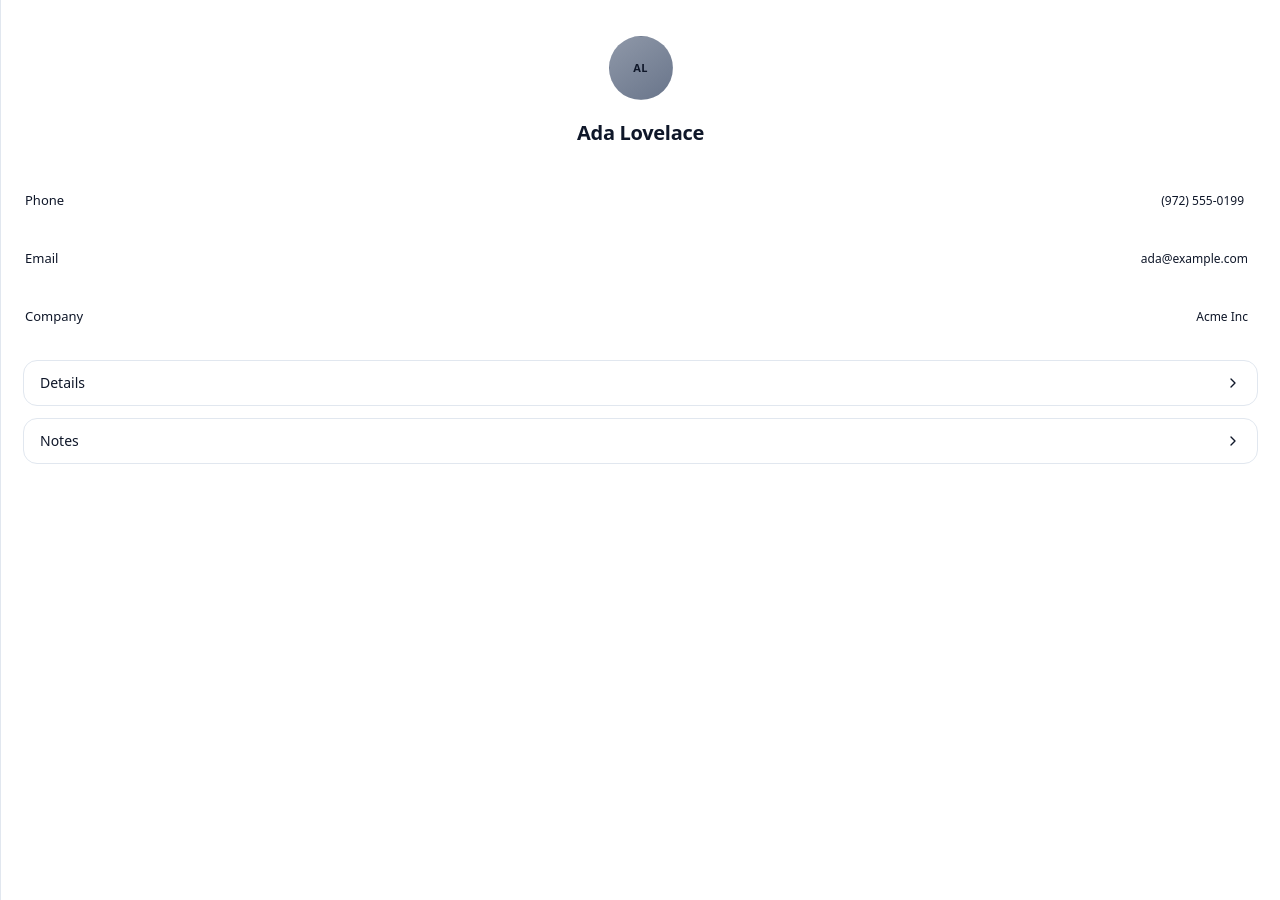
ContactPanel › saves an edit via PATCH with the full merged attributes, and shows a saved state
The image size is (1280, 900).
Click the button "Acme Inc": (1222,317) [1188,301,1256,333]
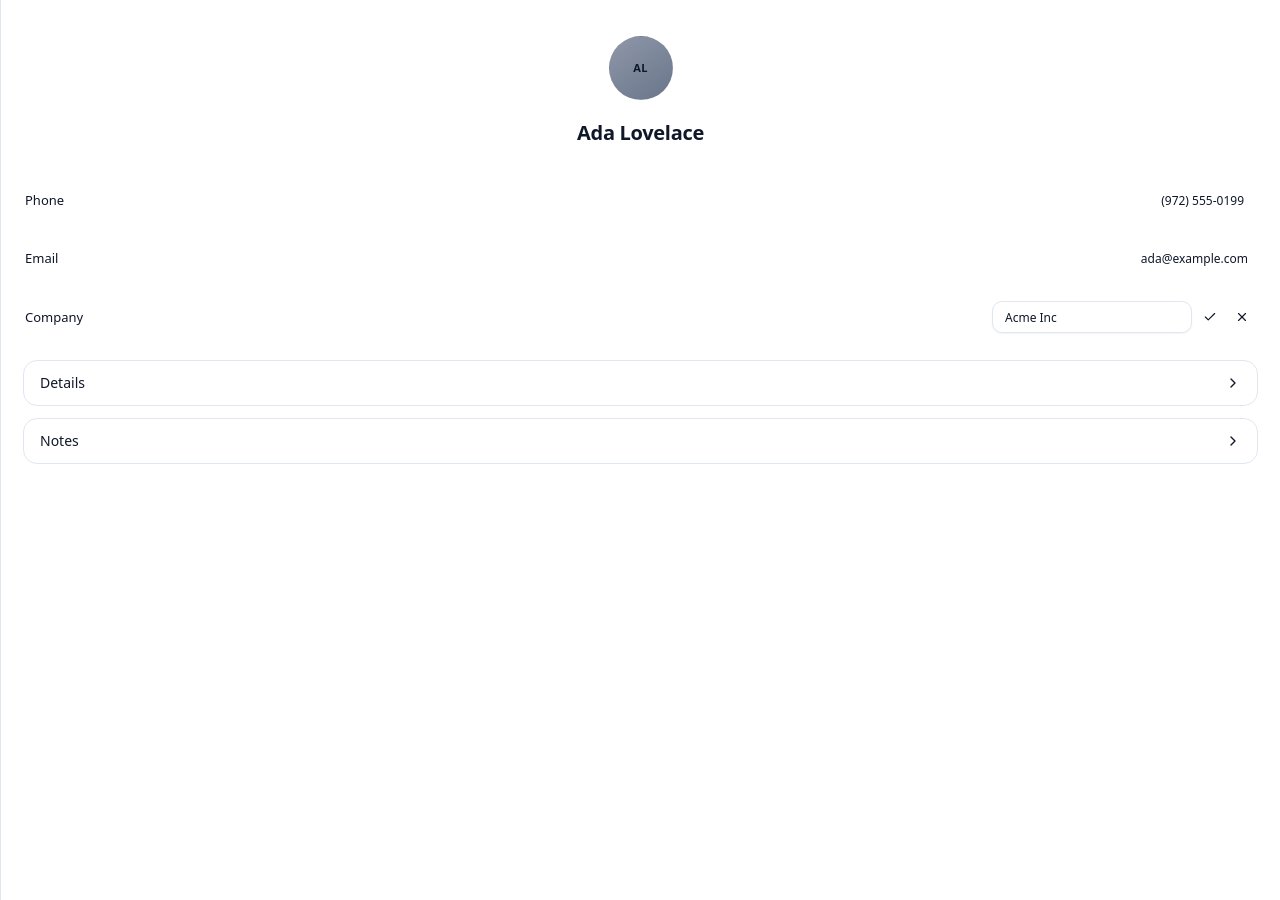
Replace the text in the field named "Company" with "New Co": (1092,317) [992,301,1192,333]
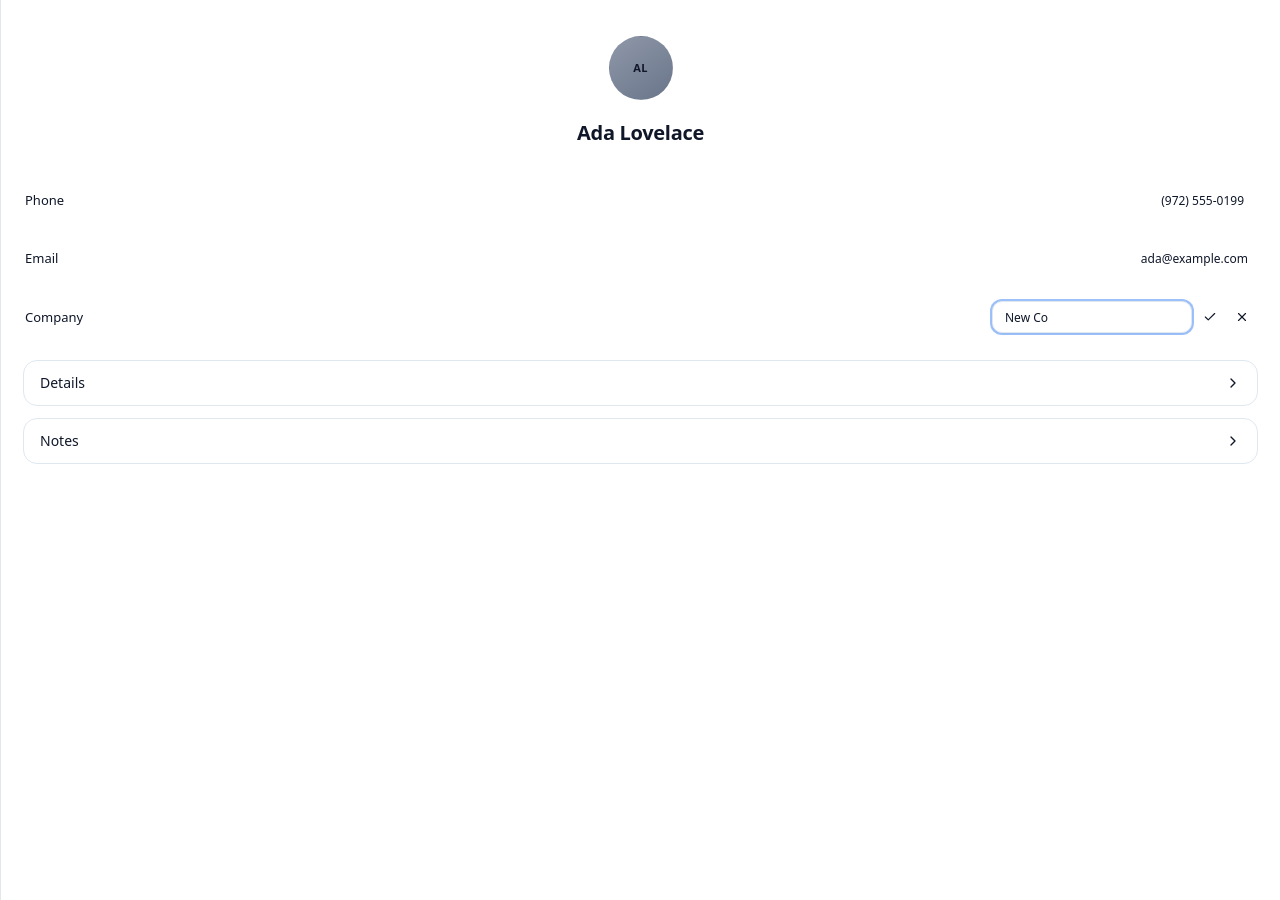
Click the button named "Save Company": (1210,317) [1196,303,1224,331]
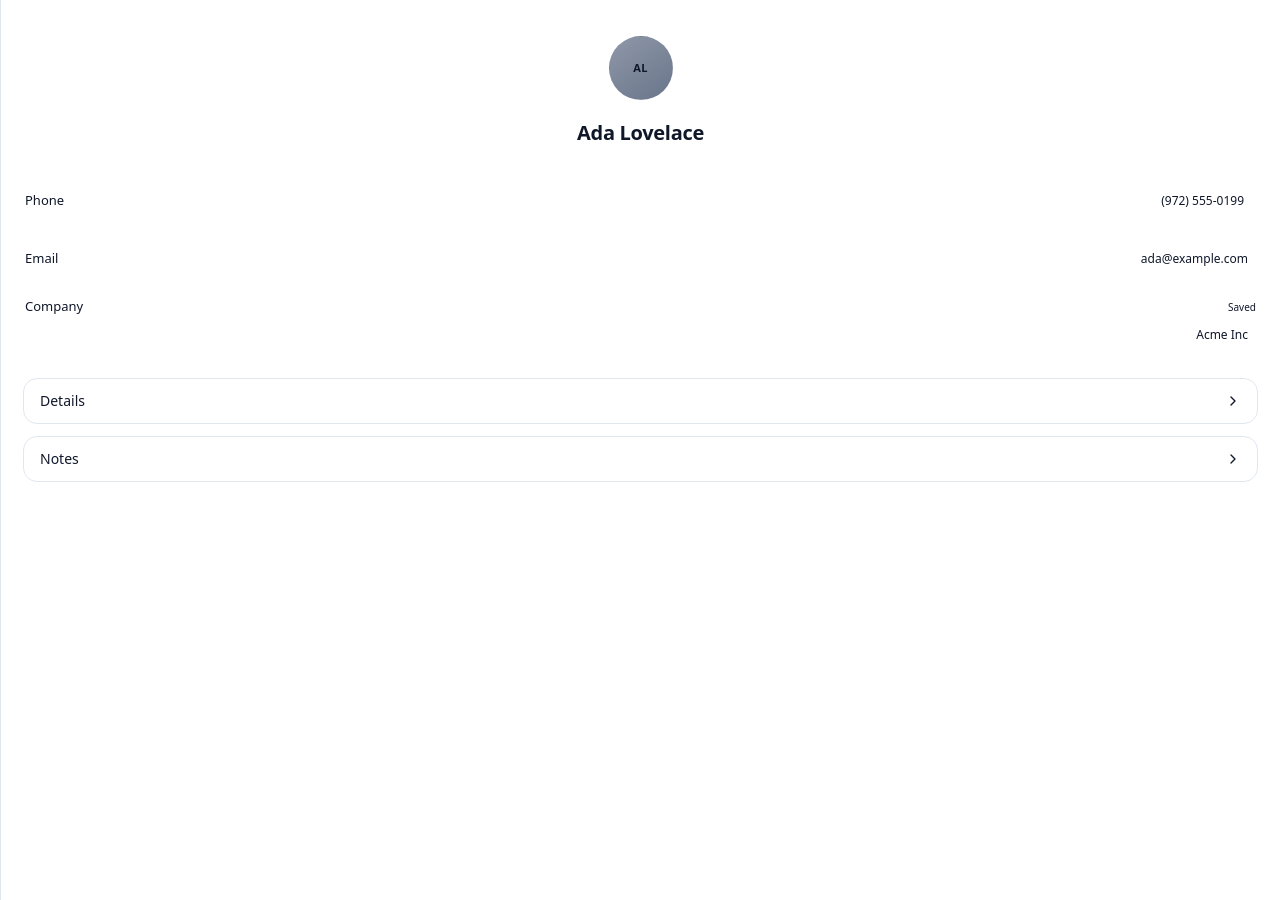
Now the text "Saved" is shown, box [1228,300,1256,315]
